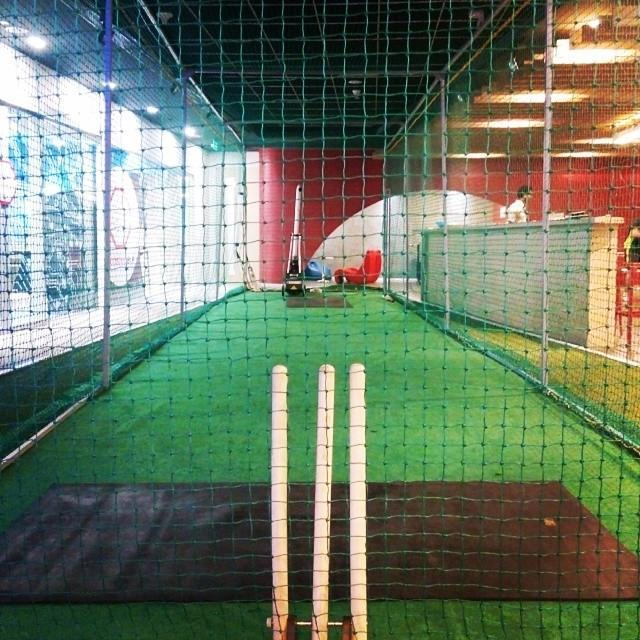stumps: (257, 347, 372, 640)
